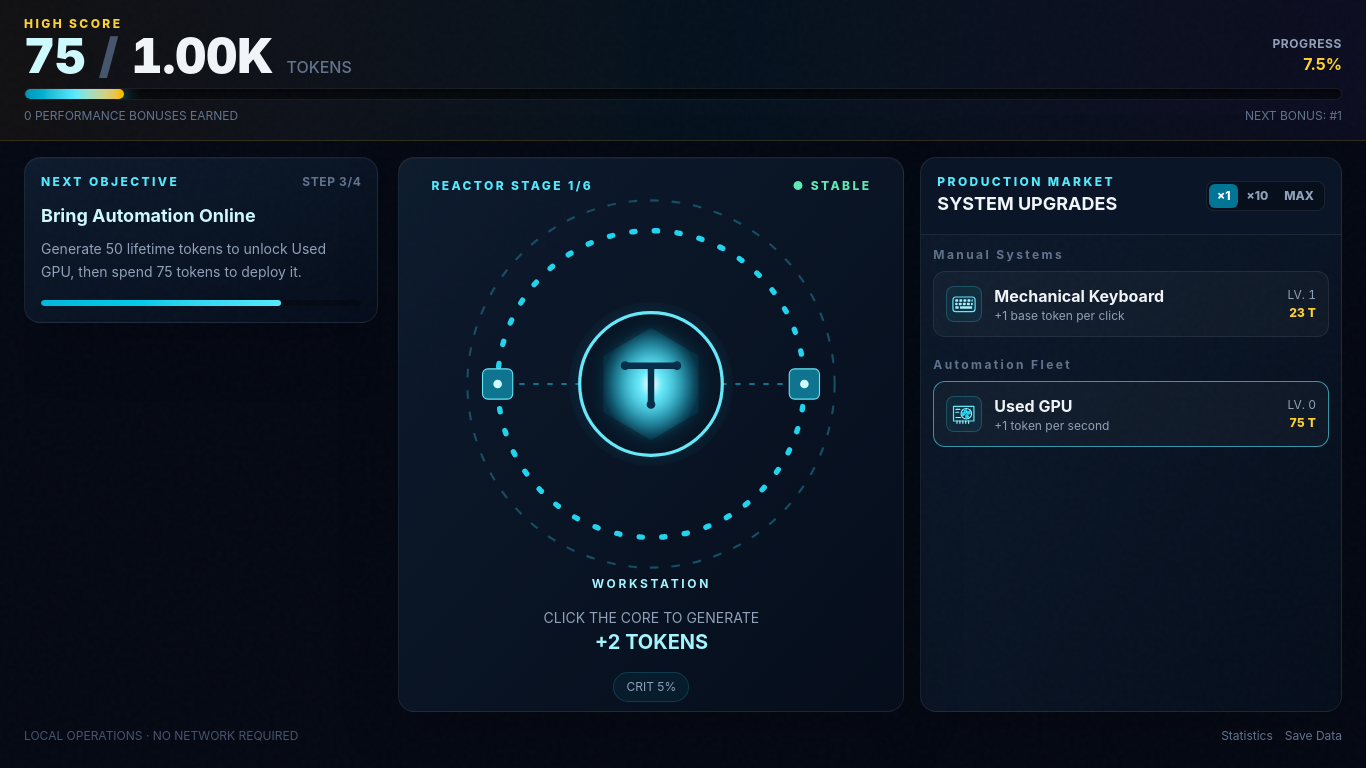
it: Tokenmaxxer dashboard › guides the first automation purchase and then points to the record
The image size is (1366, 768).
Click the button "Used GPU +1 token per second LV. 0 75 T" at {"x": 964, "y": 414}, box top-left (933, 381), bottom-right (1329, 447)
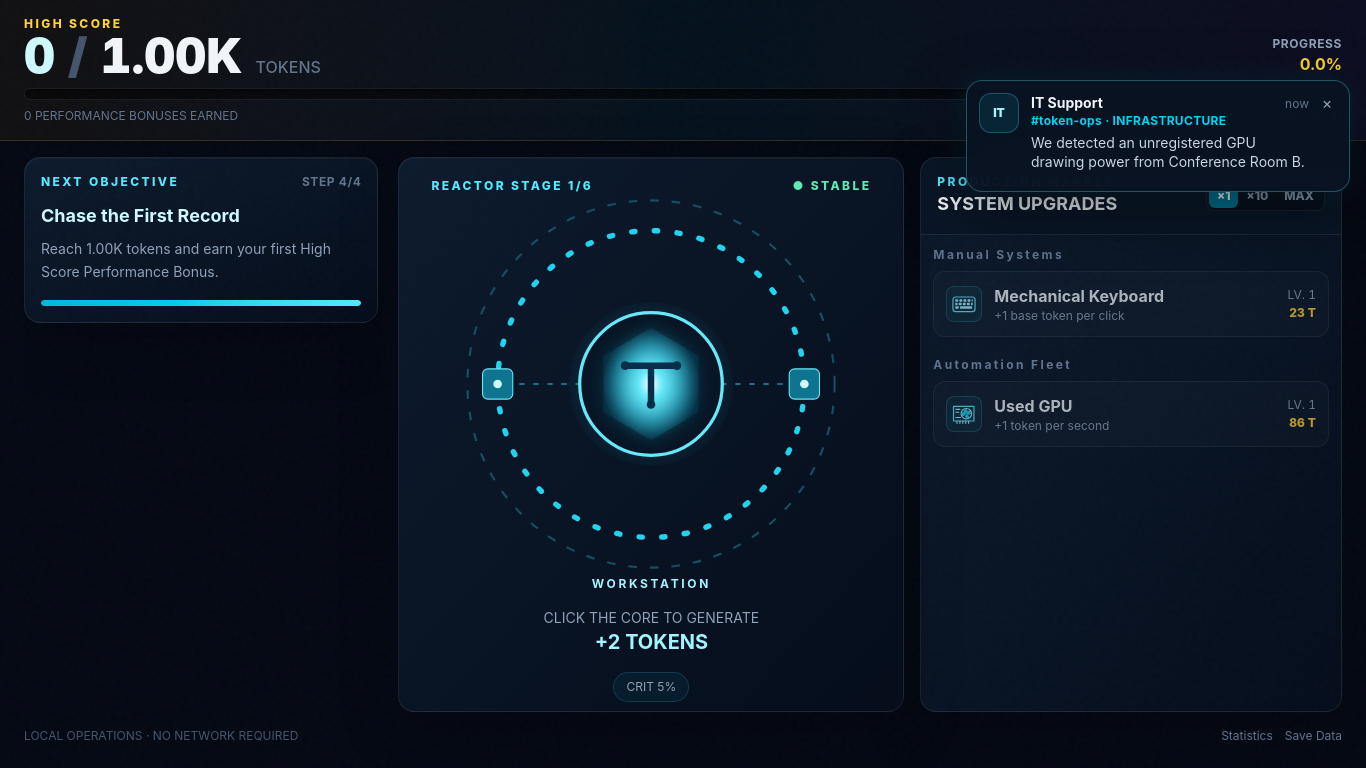
Result: the heading "Chase the First Record" is shown at top-left (41, 205), bottom-right (240, 226)
